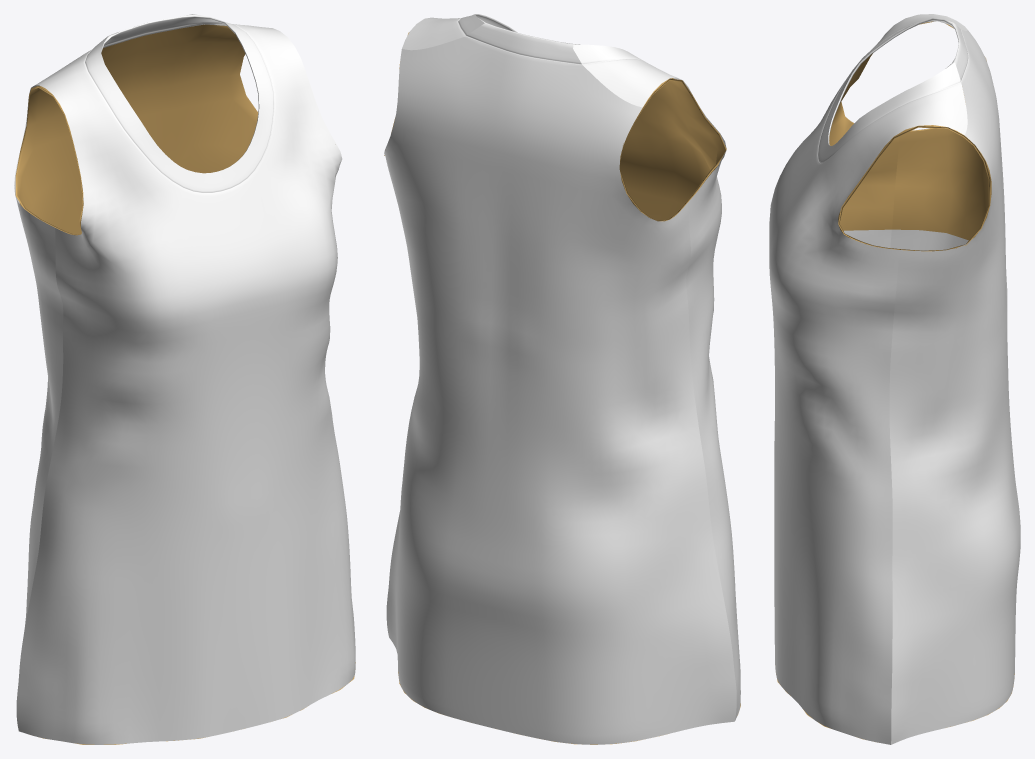
The picture shows the model from 3 angles, left to right: view 1: azimuth 30°, elevation 25°; view 2: azimuth 150°, elevation 25°; view 3: azimuth 270°, elevation 25°; orthographic projection. The views are drawn at different scales.
Visible parts, largest first — view 1: 7D6S2X; view 2: 7D6S2X; view 3: 7D6S2X.
Boxes of the visible parts, x1=… form: 7D6S2X: x1=14, y1=14, x2=355, y2=744; 7D6S2X: x1=384, y1=14, x2=740, y2=744; 7D6S2X: x1=769, y1=14, x2=1020, y2=744.
Bounding box in the file's own units: 0.5265 × 0.9654 × 0.3524.
